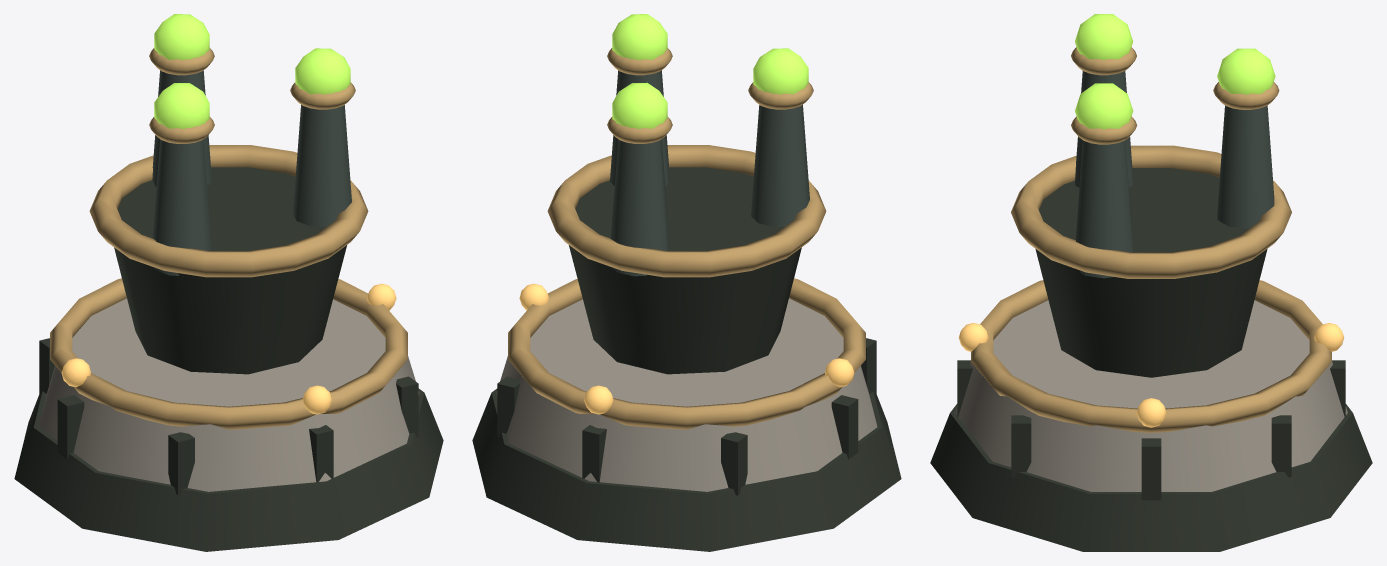
The model's file is tower_poison_poisonCauldron_ultimate.glb.
3 renders of one model, left to right at view 1: azimuth 30°, elevation 25°; view 2: azimuth 150°, elevation 25°; view 3: azimuth 270°, elevation 25°, orthographic.
Visible parts, largest first — view 1: stone_1, vessel_15, foot_0, rim_2, vessel_lip_17, chimney_21, chimney_24, spore_23, spore_20, spore_26, mortar_6, mortar_7 (+10 smaller); view 2: stone_1, vessel_15, foot_0, rim_2, vessel_lip_17, chimney_24, chimney_18, spore_26, spore_23, spore_20, mortar_8, mortar_7 (+10 smaller); view 3: stone_1, vessel_15, foot_0, rim_2, vessel_lip_17, chimney_18, chimney_21, spore_23, spore_20, spore_26, mortar_3, mortar_4 (+10 smaller).
Boxes of the visible parts, x1,y1,x2,y2 form: stone_1: (38,298,419,491); vessel_15: (114,167,346,374); foot_0: (14,388,443,551); rim_2: (50,278,407,429); vessel_lip_17: (89,145,368,277); chimney_21: (293,105,351,226); chimney_24: (152,139,211,276); spore_23: (295,48,350,94); spore_20: (154,14,209,60); spore_26: (154,83,209,128); mortar_6: (168,432,194,495); mortar_7: (57,395,84,459); stone_1: (496,298,877,491); vessel_15: (569,167,801,374); foot_0: (472,388,901,551); rim_2: (508,278,865,429); vessel_lip_17: (547,145,826,277); chimney_24: (751,105,809,227); chimney_18: (610,139,669,276); spore_26: (753,48,808,94); spore_23: (612,14,667,60); spore_20: (612,82,667,128); mortar_8: (721,432,747,495); mortar_7: (831,395,858,459); stone_1: (955,300,1347,491); vessel_15: (1035,168,1267,377); foot_0: (930,404,1372,551); rim_2: (971,280,1331,432); vessel_lip_17: (1011,145,1291,278); chimney_18: (1217,105,1274,228); chimney_21: (1075,140,1132,278); spore_23: (1075,83,1133,129); spore_20: (1217,48,1275,94); spore_26: (1075,14,1133,59); mortar_3: (1141,438,1161,500); mortar_4: (1011,415,1031,477).
Bounding box in the file's own units: 0.5326 × 0.577 × 0.56.
